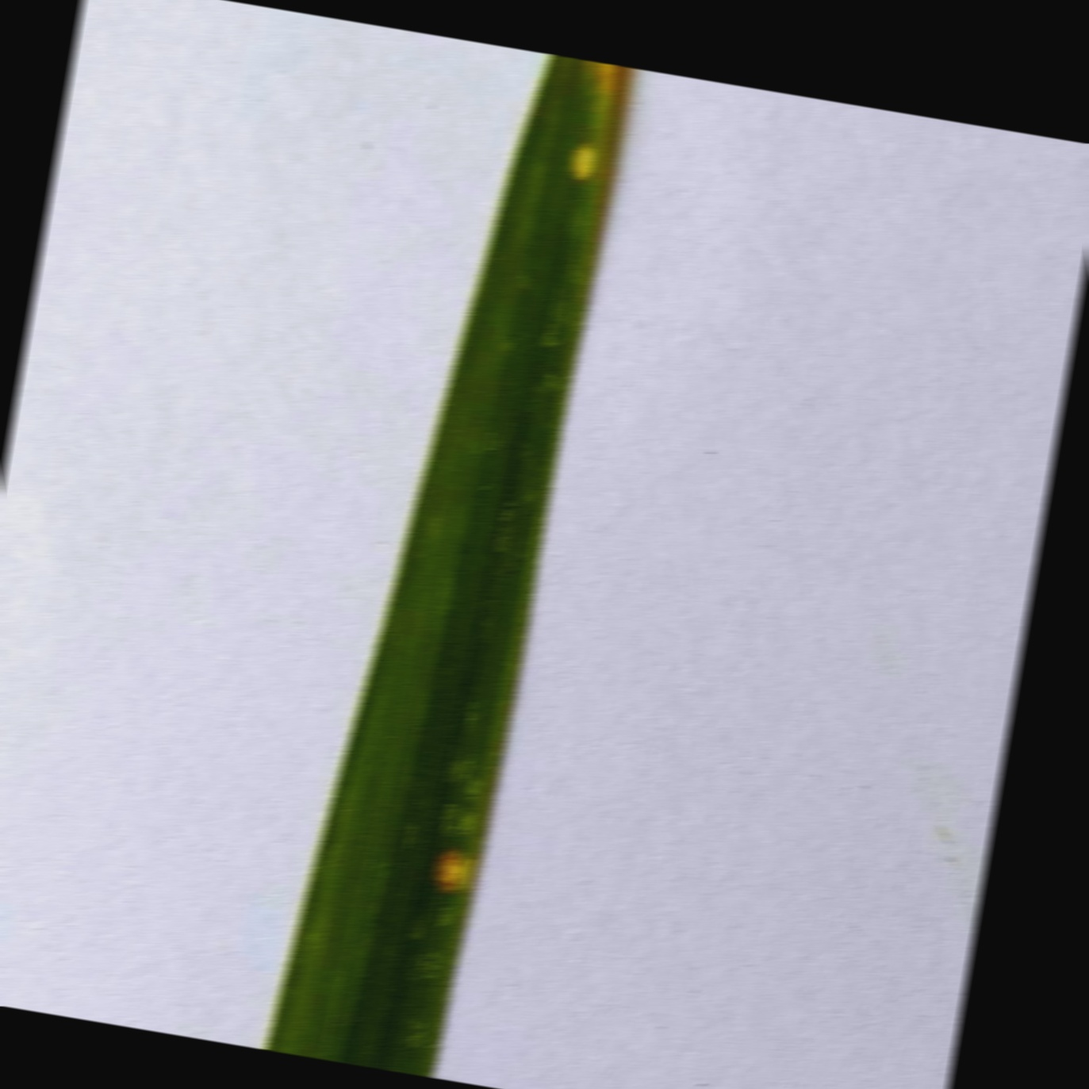Brown_Spot: (401, 816, 486, 900), (558, 131, 620, 195)
